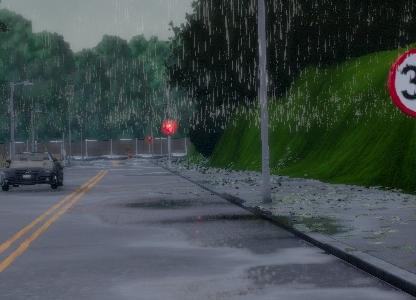Speed_30: (387, 48, 416, 117)
